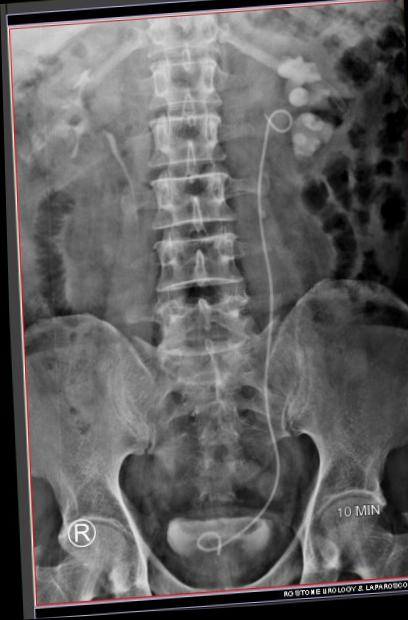bladder: (152, 508, 268, 588)
right kidney: (9, 17, 129, 196)
vertebrae: (137, 43, 220, 104)
